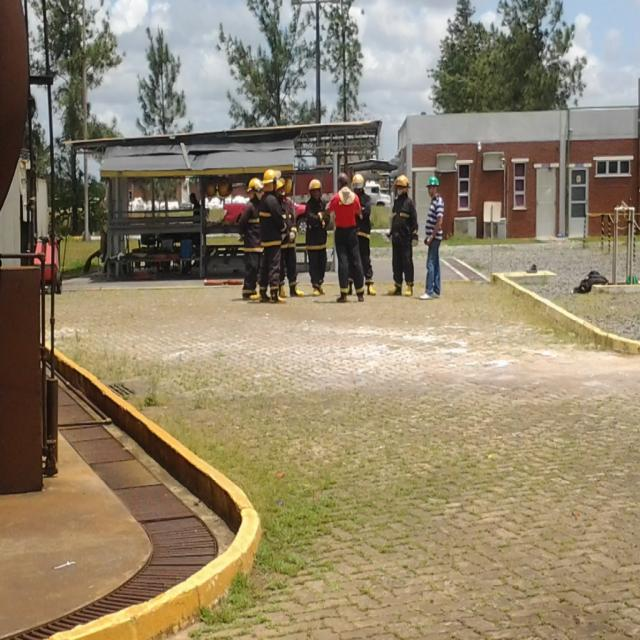no_fire: (11, 28, 584, 616)
